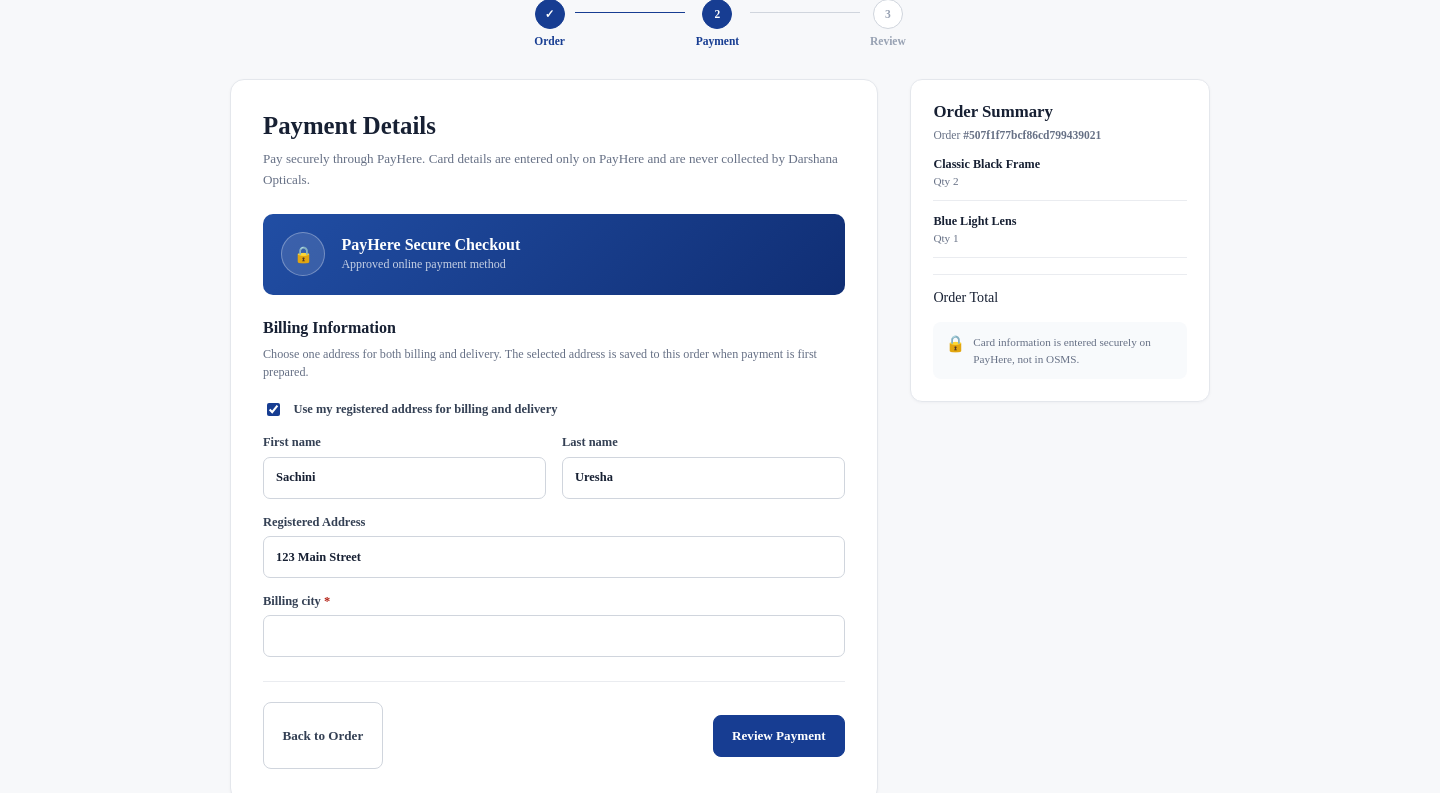
Scenario: PaymentEntryPage › requires status recovery after an uncertain network failure
The image size is (1440, 793).
Expected: the heading "Payment Details" is shown, [263,112,436,139]
Type "Colombo" into the field labelled "Billing city *" at (554,636), box [263,616,845,658]
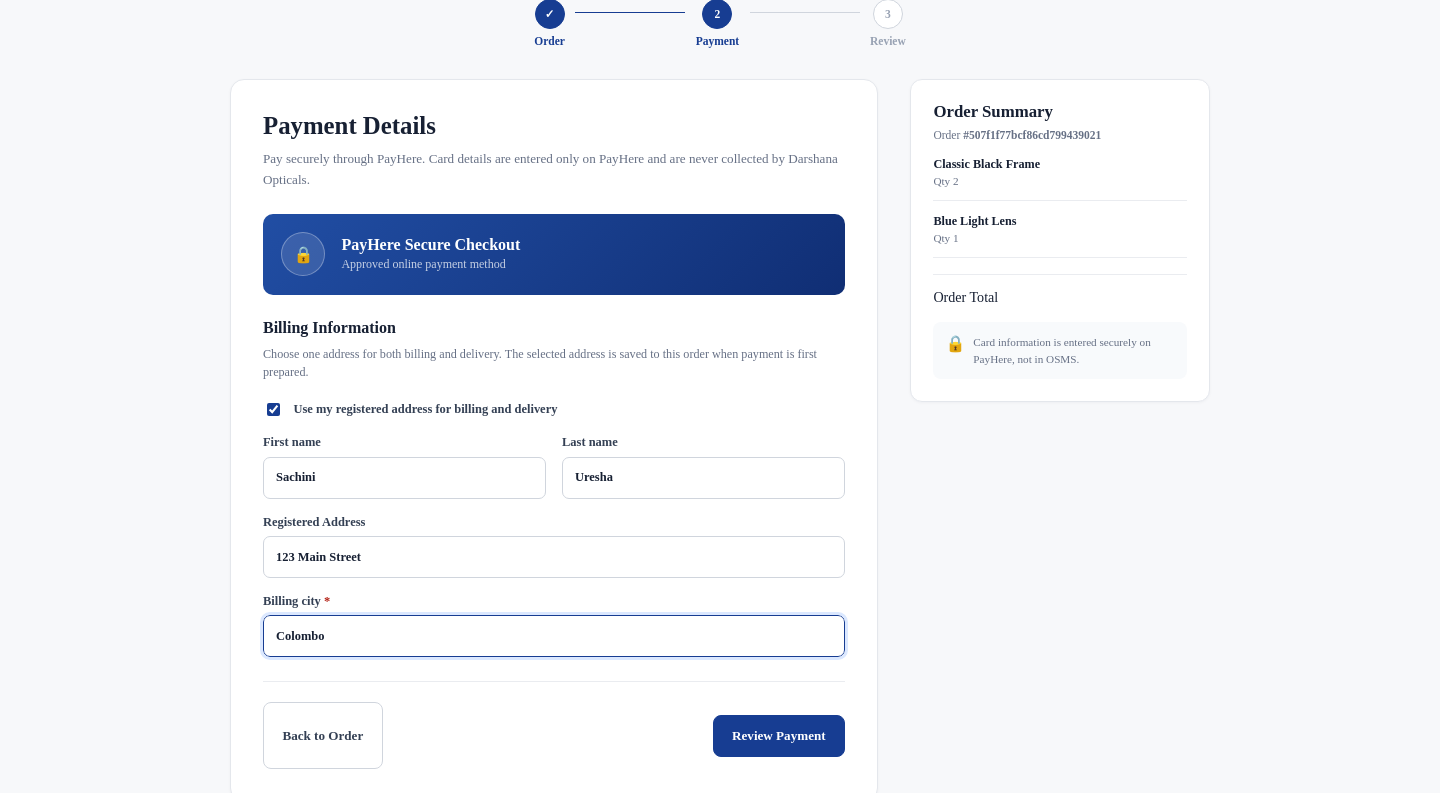
Click the button "Review Payment" at (779,736), box [713,715,845,757]
(page scrolled)
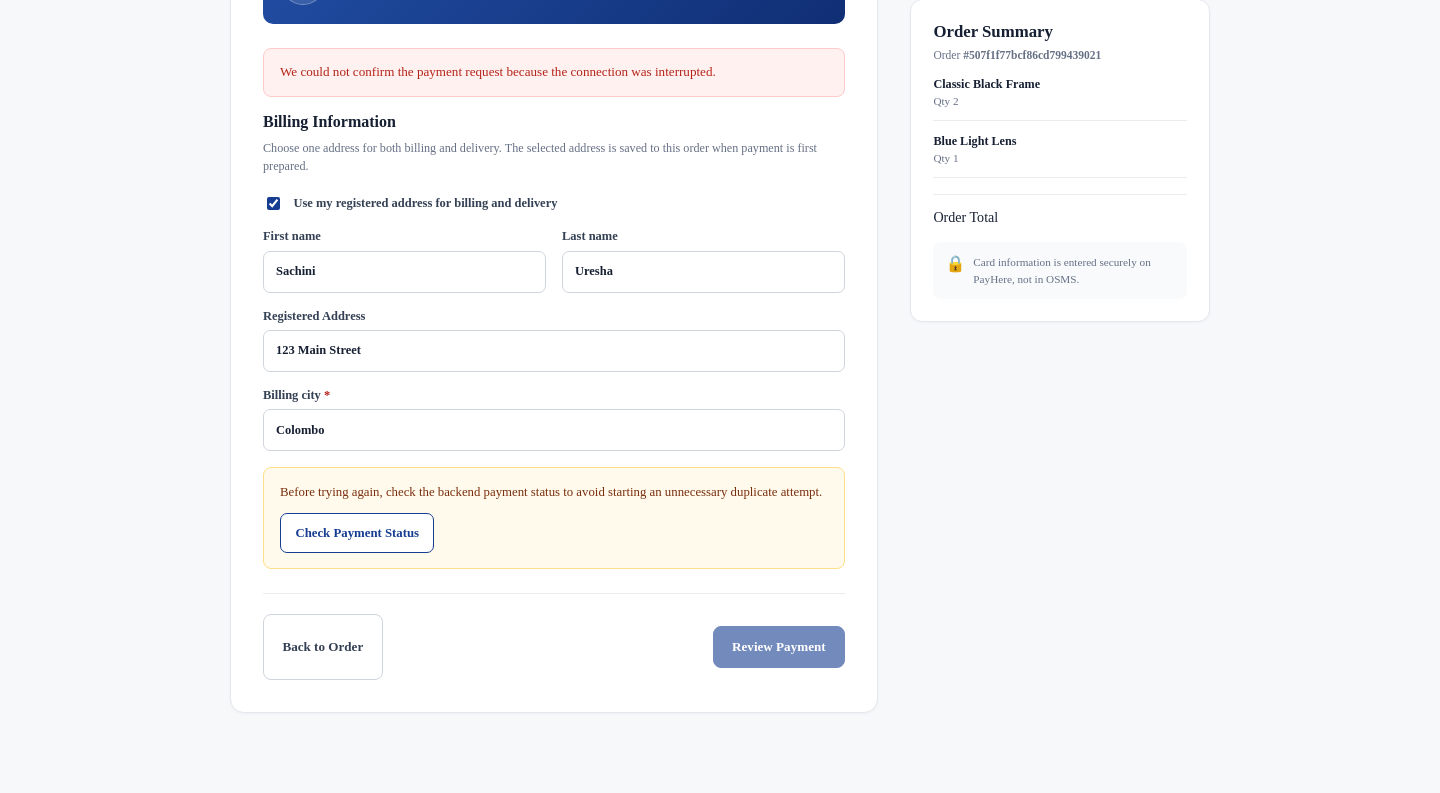
Expected: the message shows "could not confirm the payment request", [280,64,716,79]
Expected: the button "Check Payment Status" is shown, [280,513,434,553]
Expected: the button "Review Payment" is disabled, [713,626,845,668]
